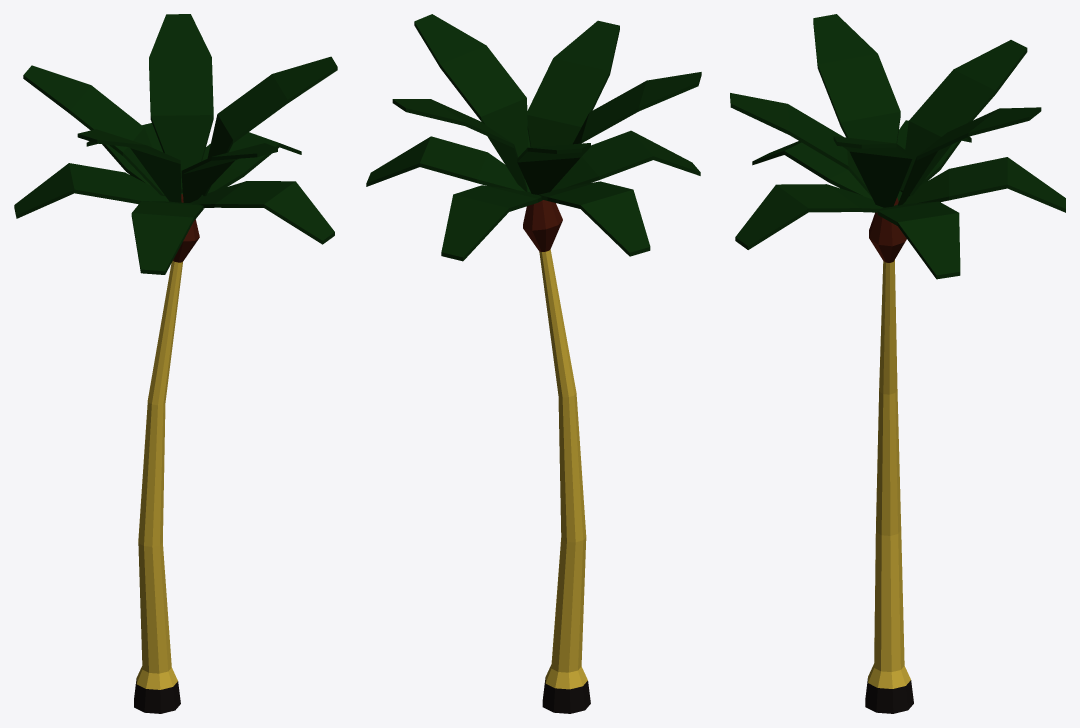
File: Palm_Tree_Spring.obj
The picture shows the model from 3 angles, left to right: view 1: azimuth 30°, elevation 25°; view 2: azimuth 150°, elevation 25°; view 3: azimuth 270°, elevation 25°; orthographic projection. The views are drawn at different scales.
Parts seen in each view (by area): view 1: Palm_Tree_Spring_Cylinder.036; view 2: Palm_Tree_Spring_Cylinder.036; view 3: Palm_Tree_Spring_Cylinder.036.
Boxes of the visible parts, x1,y1,x2,y2 form: Palm_Tree_Spring_Cylinder.036: (14,14,337,713); Palm_Tree_Spring_Cylinder.036: (366,14,701,713); Palm_Tree_Spring_Cylinder.036: (730,14,1065,713).
Size of the model in its own units: 2.6 by 5.49 by 2.61.
